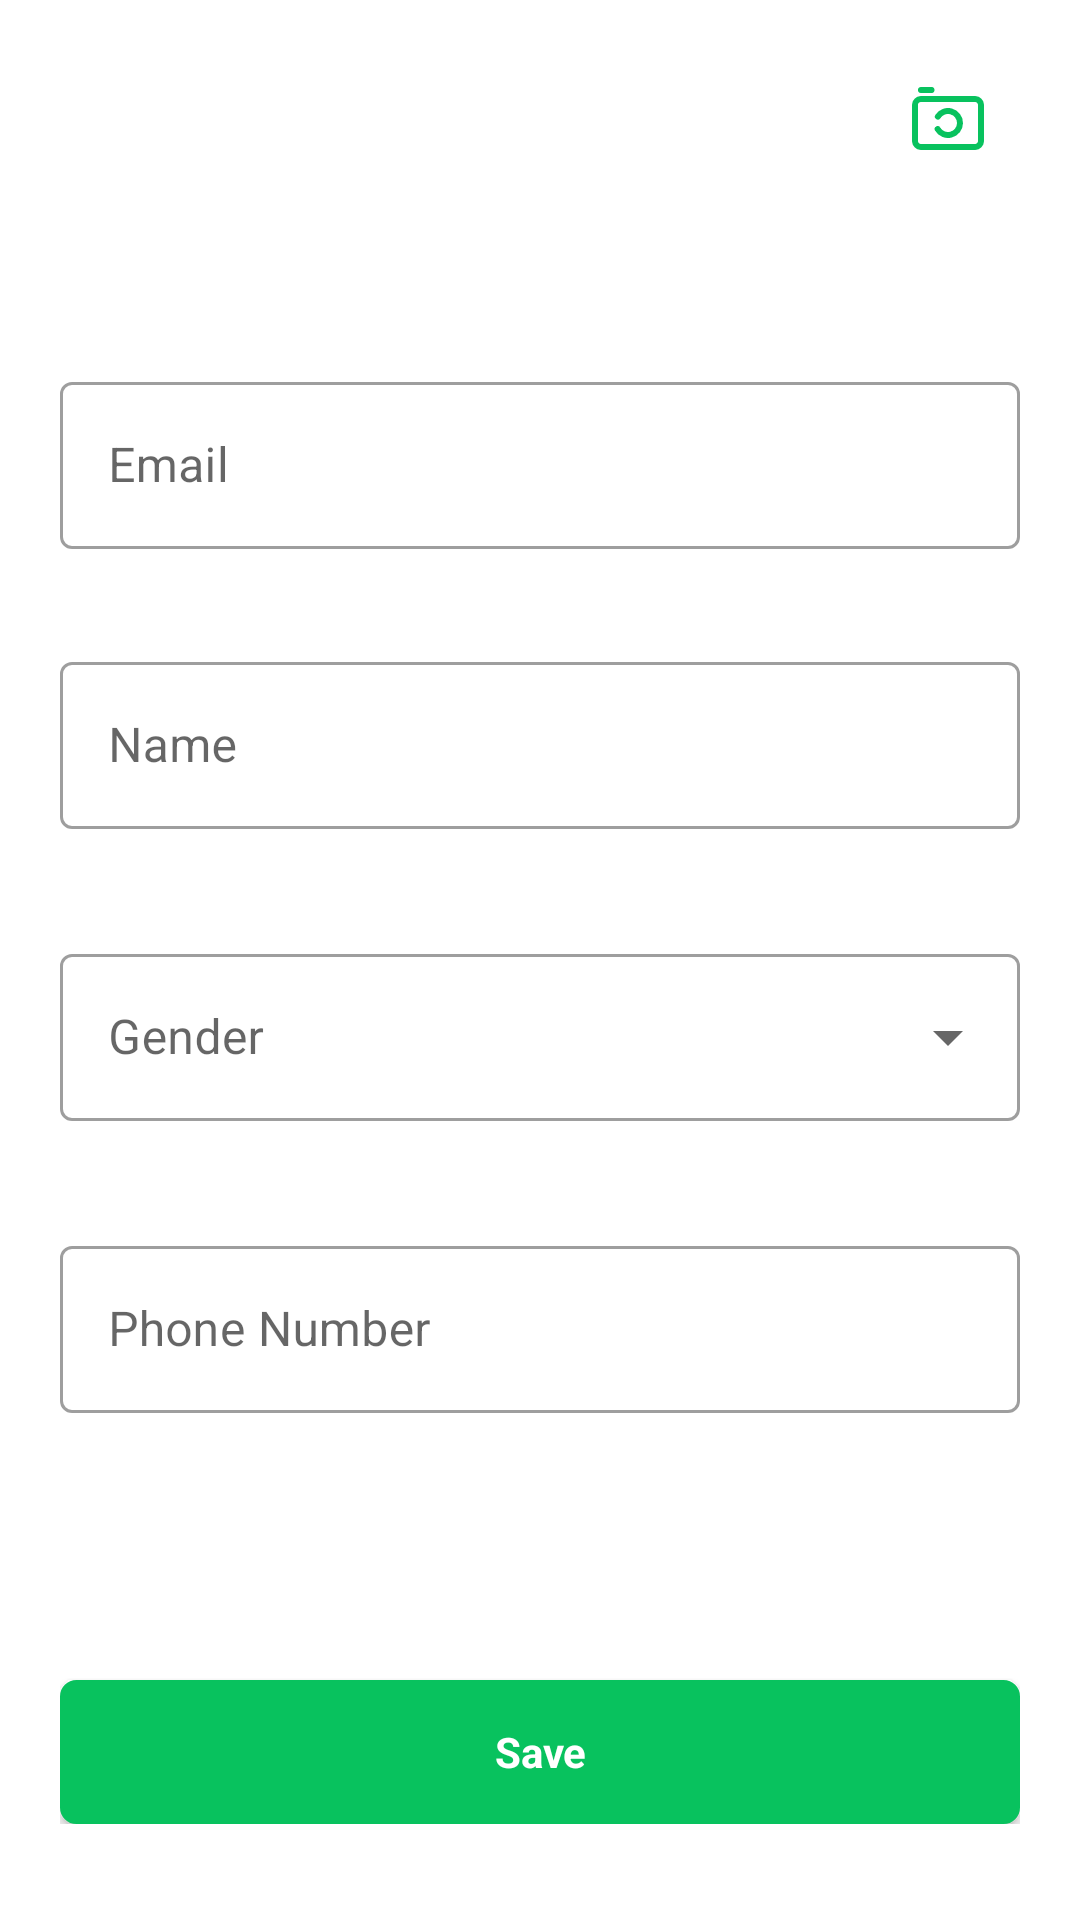

Icons on this 1080px×1920px Android screen, each with its box as (x1, y1, x2, y2):
Camera: (912, 87, 984, 150)
